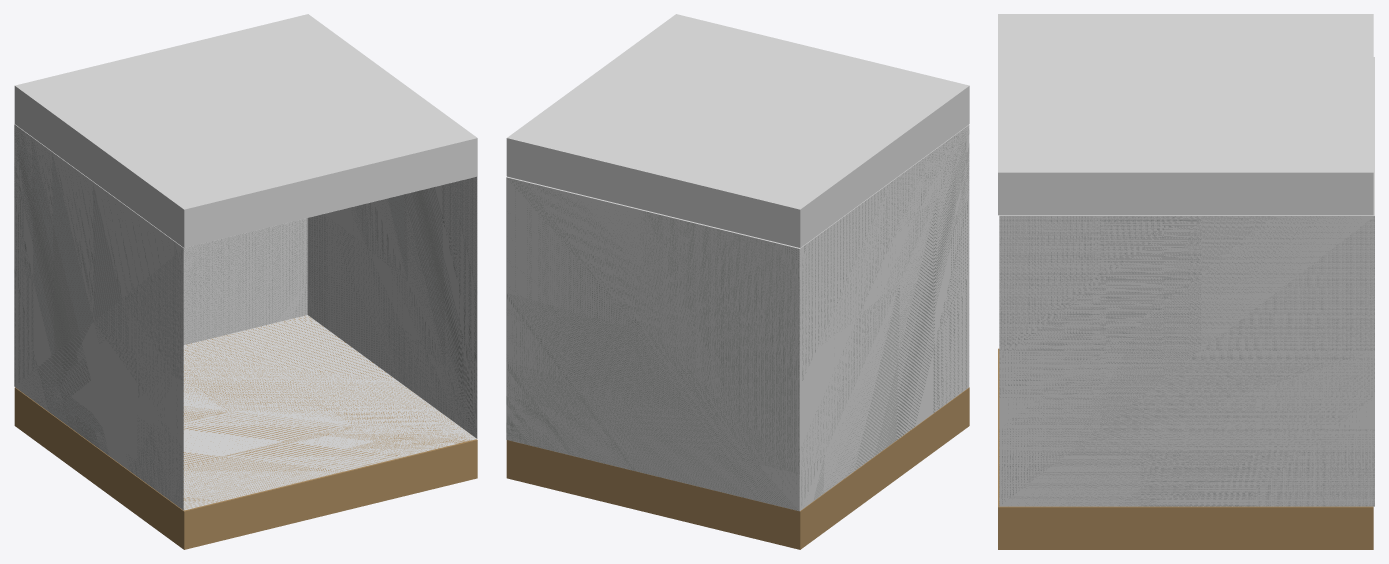
Rendered from PAD2.fbx.
The picture shows the model from 3 angles, left to right: view 1: azimuth 30°, elevation 25°; view 2: azimuth 150°, elevation 25°; view 3: azimuth 270°, elevation 25°; orthographic projection. The views are drawn at different scales.
Parts seen in each view (by area): view 1: Inside_Concrete_Pad1, Above_Grade1, Drainage_Bed1; view 2: Inside_Concrete_Pad1, Above_Grade1, Drainage_Bed1; view 3: Inside_Concrete_Pad1, Above_Grade1, Drainage_Bed1.
Part boxes in pixels (bbox=[...]): Inside_Concrete_Pad1: bbox=[14, 124, 477, 510]; Above_Grade1: bbox=[14, 14, 477, 247]; Drainage_Bed1: bbox=[14, 387, 477, 549]; Inside_Concrete_Pad1: bbox=[506, 125, 969, 511]; Above_Grade1: bbox=[506, 14, 969, 247]; Drainage_Bed1: bbox=[506, 387, 969, 549]; Inside_Concrete_Pad1: bbox=[999, 57, 1374, 506]; Above_Grade1: bbox=[998, 14, 1373, 215]; Drainage_Bed1: bbox=[998, 348, 1373, 549].
Bounding box in the file's own units: 48 × 53.17 × 48.14.
